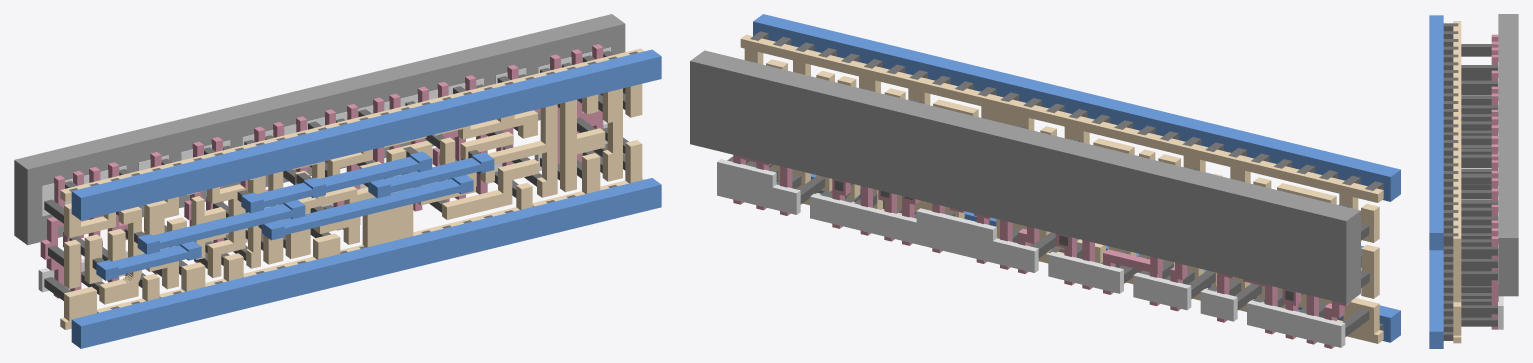
The model's file is sky130_fd_sc_hd__sdfstp_2.gds.gltf.
The picture shows the model from 3 angles, left to right: view 1: azimuth 30°, elevation 25°; view 2: azimuth 150°, elevation 25°; view 3: azimuth 270°, elevation 25°; orthographic projection. The views are drawn at different scales.
Parts seen in each view (by area): view 1: sky130_fd_sc_hd__sdfstp_2_met1, sky130_fd_sc_hd__sdfstp_2_li1, sky130_fd_sc_hd__sdfstp_2_nwell, sky130_fd_sc_hd__sdfstp_2_poly, sky130_fd_sc_hd__sdfstp_2_licon, sky130_fd_sc_hd__sdfstp_2_diff, sky130_fd_sc_hd__sdfstp_2_mcon; view 2: sky130_fd_sc_hd__sdfstp_2_nwell, sky130_fd_sc_hd__sdfstp_2_li1, sky130_fd_sc_hd__sdfstp_2_diff, sky130_fd_sc_hd__sdfstp_2_met1, sky130_fd_sc_hd__sdfstp_2_poly, sky130_fd_sc_hd__sdfstp_2_licon, sky130_fd_sc_hd__sdfstp_2_mcon; view 3: sky130_fd_sc_hd__sdfstp_2_licon, sky130_fd_sc_hd__sdfstp_2_nwell, sky130_fd_sc_hd__sdfstp_2_met1, sky130_fd_sc_hd__sdfstp_2_mcon, sky130_fd_sc_hd__sdfstp_2_li1, sky130_fd_sc_hd__sdfstp_2_poly, sky130_fd_sc_hd__sdfstp_2_diff.
Boxes of the visible parts, bbox=[...] form: sky130_fd_sc_hd__sdfstp_2_met1: bbox=[71, 49, 661, 348]; sky130_fd_sc_hd__sdfstp_2_li1: bbox=[60, 48, 644, 329]; sky130_fd_sc_hd__sdfstp_2_nwell: bbox=[14, 14, 625, 245]; sky130_fd_sc_hd__sdfstp_2_poly: bbox=[40, 44, 603, 298]; sky130_fd_sc_hd__sdfstp_2_licon: bbox=[44, 51, 628, 300]; sky130_fd_sc_hd__sdfstp_2_diff: bbox=[38, 47, 610, 292]; sky130_fd_sc_hd__sdfstp_2_mcon: bbox=[69, 51, 637, 313]; sky130_fd_sc_hd__sdfstp_2_nwell: bbox=[690, 50, 1360, 304]; sky130_fd_sc_hd__sdfstp_2_li1: bbox=[740, 34, 1383, 343]; sky130_fd_sc_hd__sdfstp_2_diff: bbox=[717, 159, 1345, 347]; sky130_fd_sc_hd__sdfstp_2_met1: bbox=[753, 14, 1400, 342]; sky130_fd_sc_hd__sdfstp_2_poly: bbox=[733, 155, 1351, 348]; sky130_fd_sc_hd__sdfstp_2_licon: bbox=[727, 60, 1369, 336]; sky130_fd_sc_hd__sdfstp_2_mcon: bbox=[750, 31, 1383, 330]; sky130_fd_sc_hd__sdfstp_2_licon: bbox=[1461, 44, 1497, 326]; sky130_fd_sc_hd__sdfstp_2_nwell: bbox=[1498, 14, 1518, 296]; sky130_fd_sc_hd__sdfstp_2_met1: bbox=[1429, 15, 1443, 348]; sky130_fd_sc_hd__sdfstp_2_mcon: bbox=[1443, 23, 1458, 340]; sky130_fd_sc_hd__sdfstp_2_li1: bbox=[1453, 21, 1461, 343]; sky130_fd_sc_hd__sdfstp_2_poly: bbox=[1491, 34, 1498, 329]; sky130_fd_sc_hd__sdfstp_2_diff: bbox=[1498, 62, 1503, 329].
Size of the model in its own units: 13.26 by 3.2 by 2.24.
